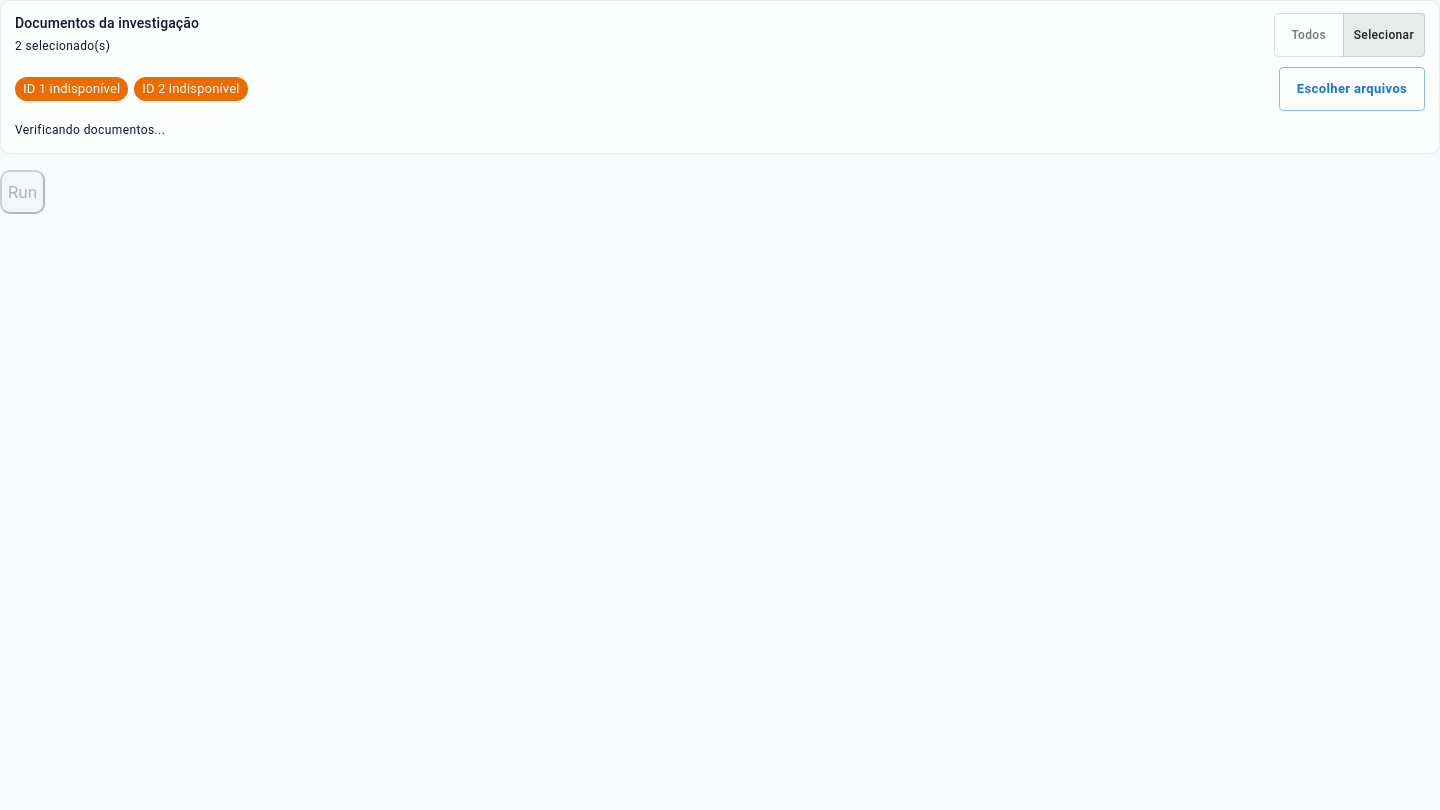
Test: clearing selected documents never switches to all
Click the button "Escolher arquivos". click: (1352,89)
box: [1279,67,1425,111]
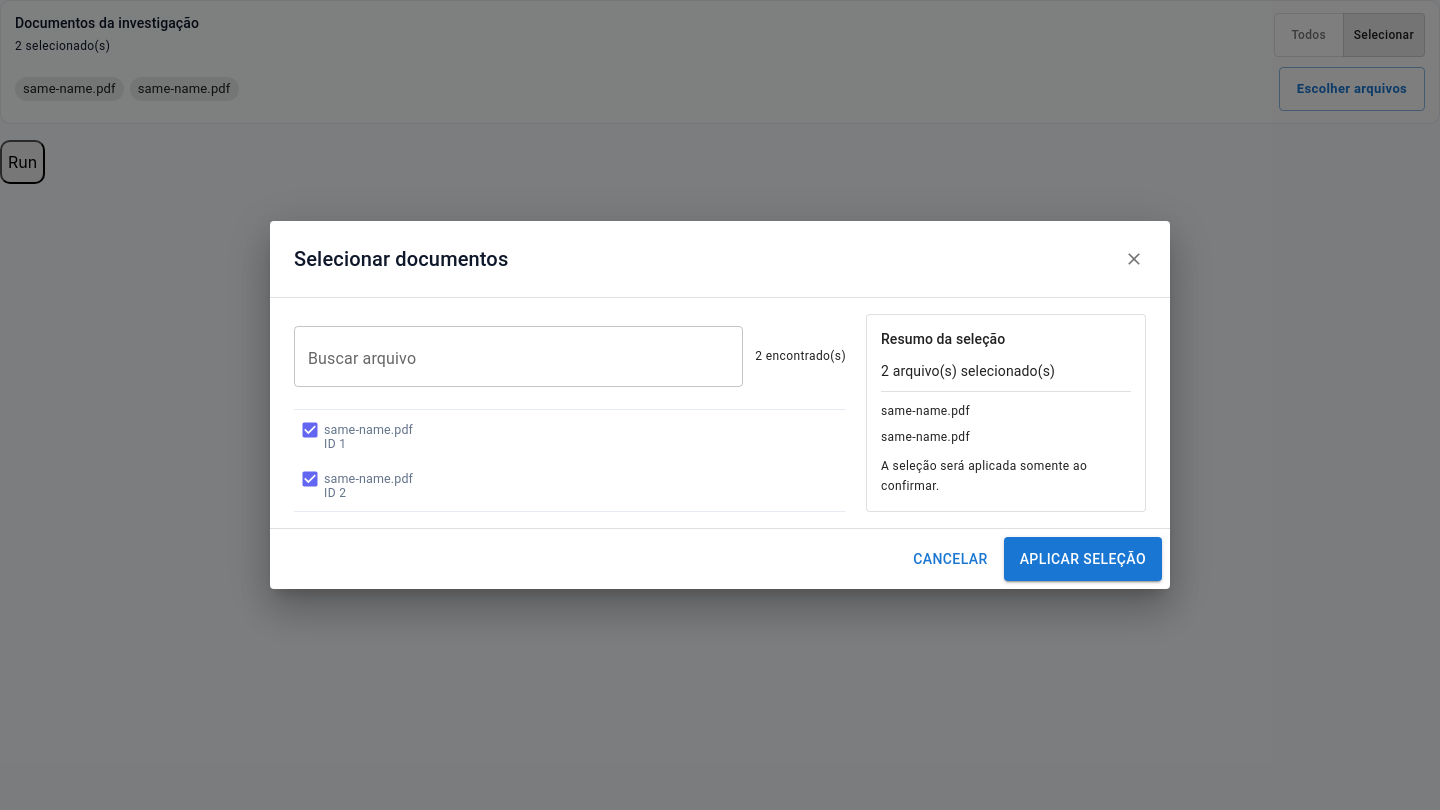
Click the checkbox labelled "same-name.pdf ID 1". click: (356,436)
box: [300,420,413,451]
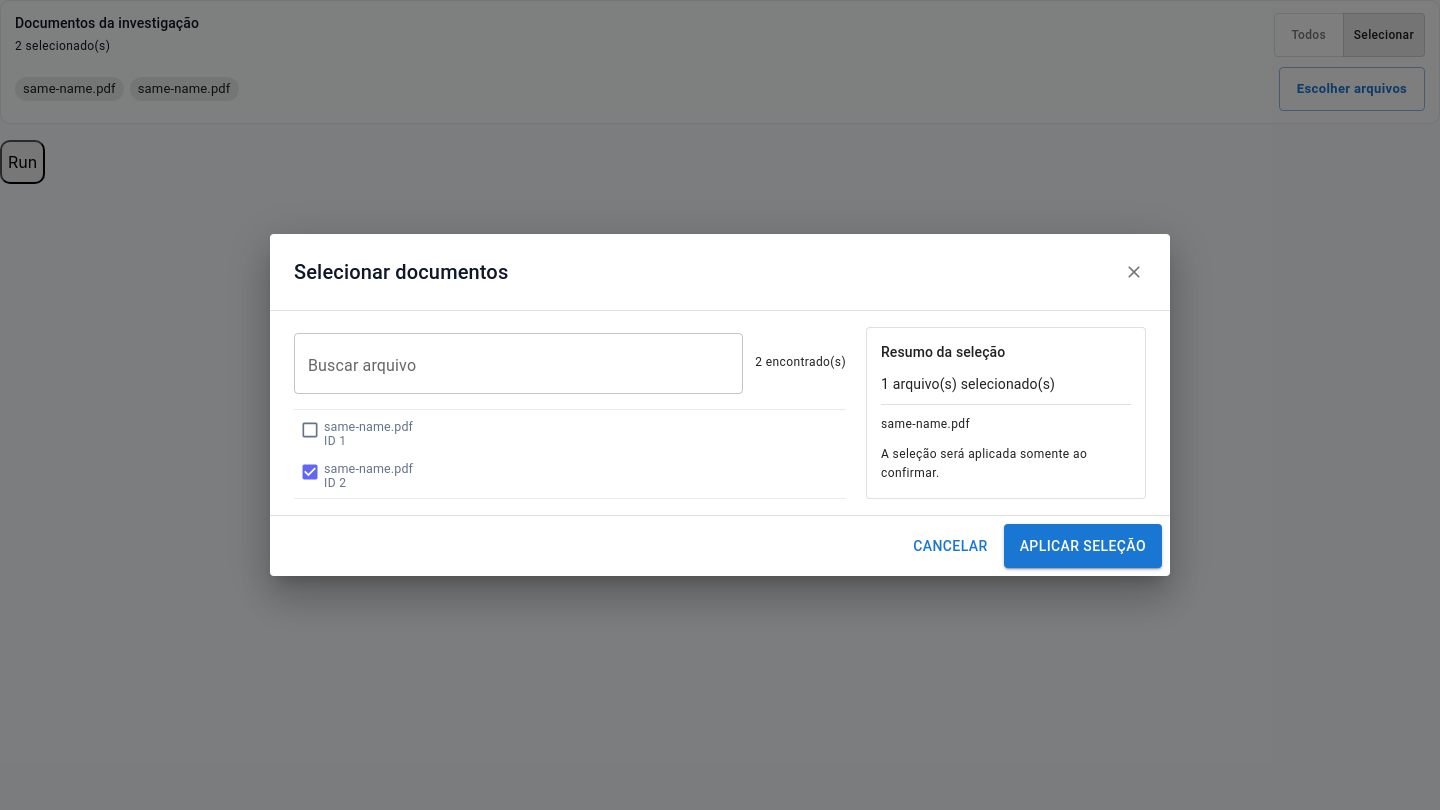
Click the checkbox labelled "same-name.pdf ID 2". click: (356,475)
box: [300,461,413,490]
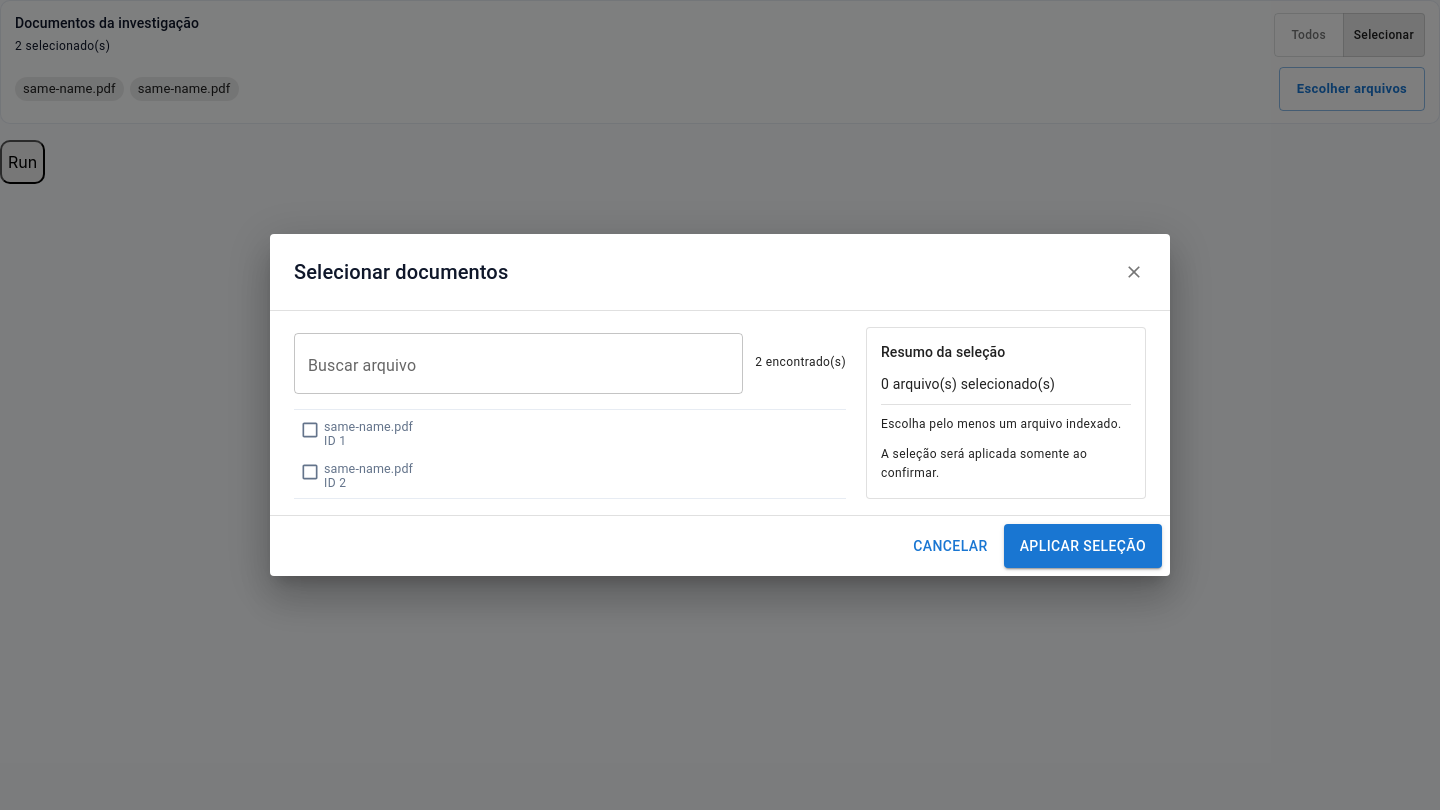
Click the button "Aplicar seleção". click: (1083,546)
box: [1004,524,1162,568]
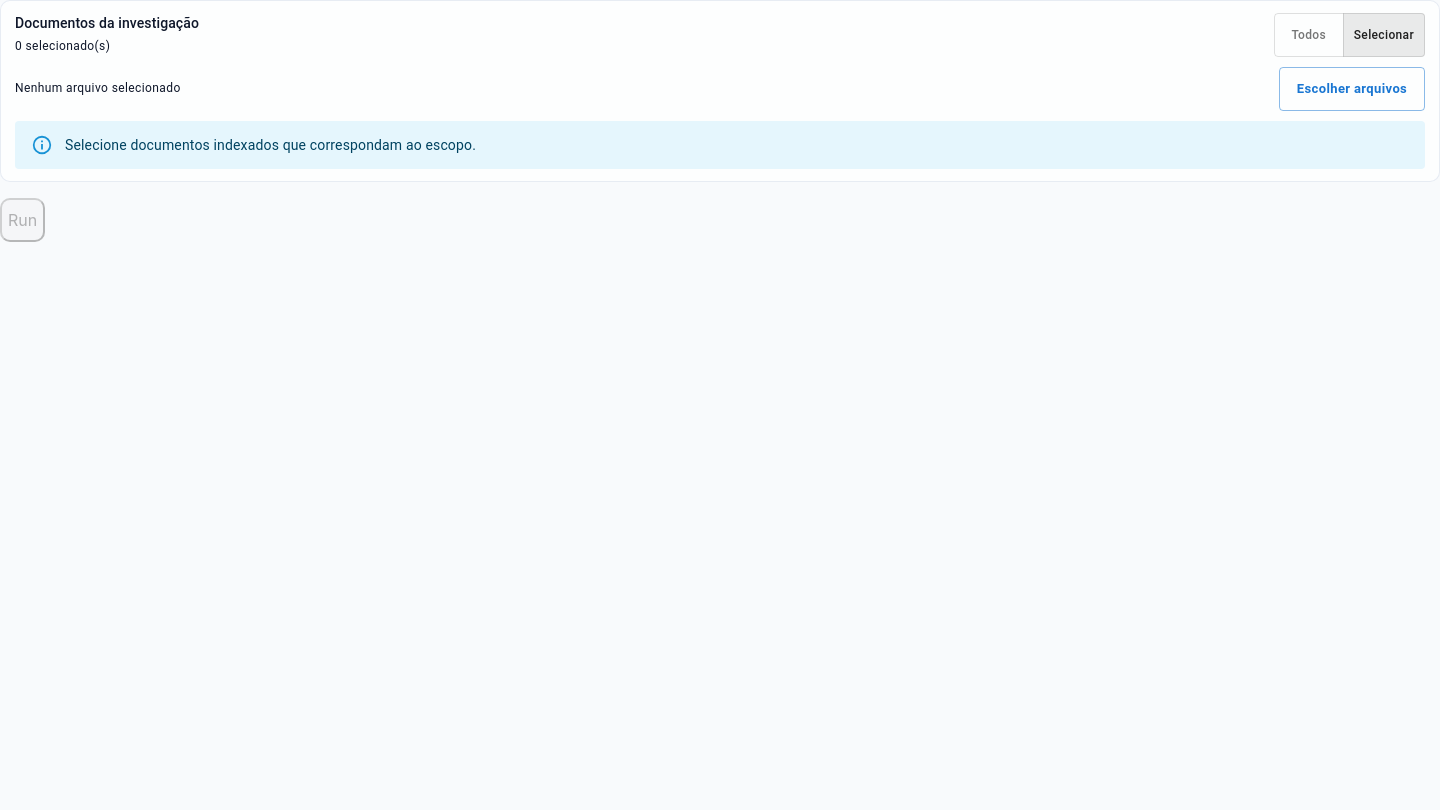
expect the dialog is gone: met
expect the button "Run" is disabled: met, box [0,198,45,242]
